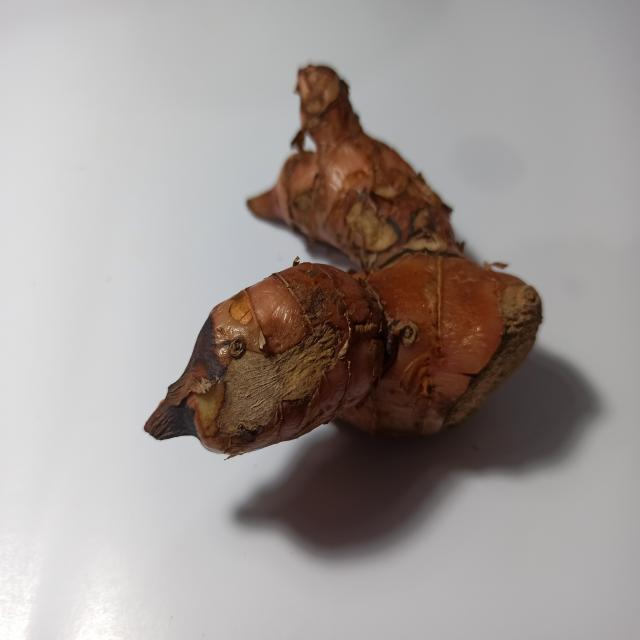ginger: (160, 80, 514, 444)
